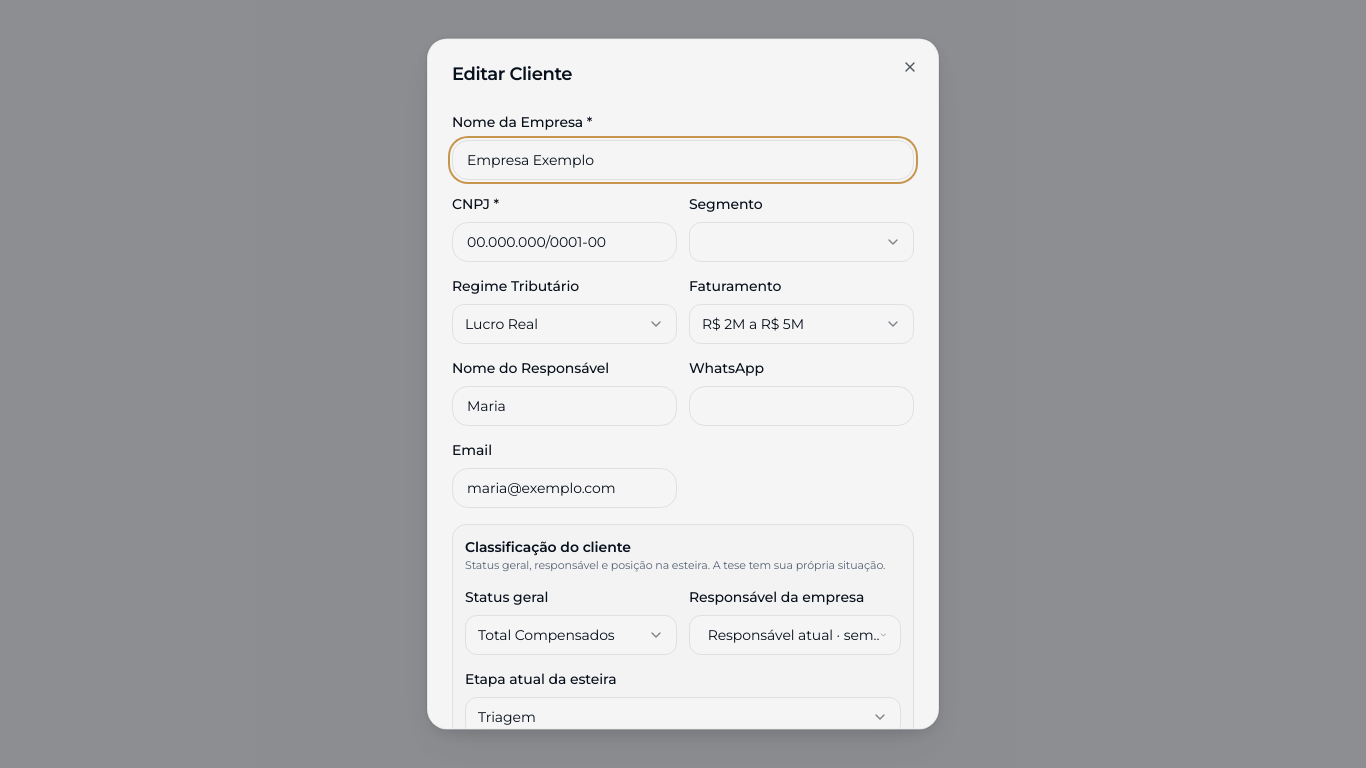
classificação geral do cliente › abre o Status geral com os 5 valores da ficha, inclusive os extras
This screenshot has width=1366, height=768.
Click the dropdown named "Status geral" at (571, 635), box [465, 615, 677, 655]
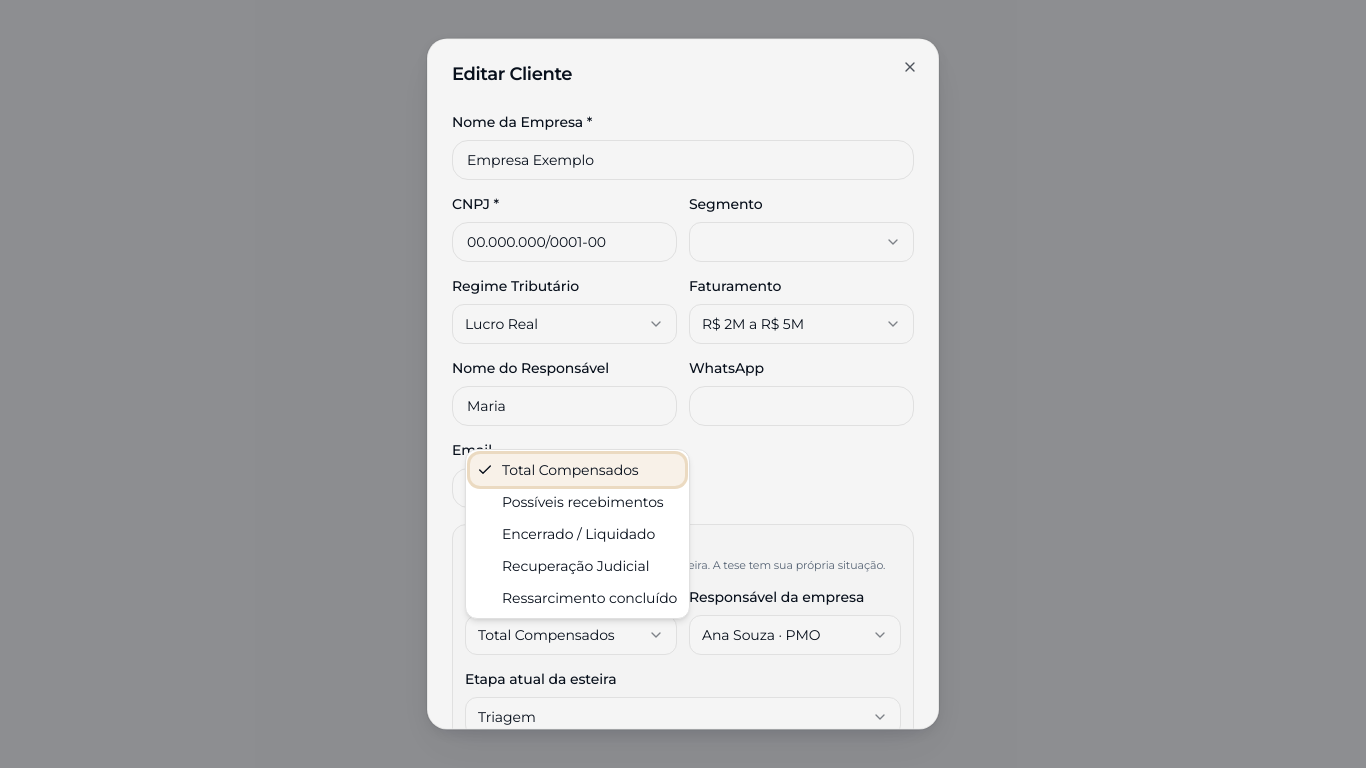
Expected: the option "Total Compensados" is shown, [470, 454, 685, 486]
Expected: the option "Possíveis recebimentos" is shown, [502, 493, 664, 511]
Expected: the option "Encerrado / Liquidado" is shown, [502, 525, 655, 543]
